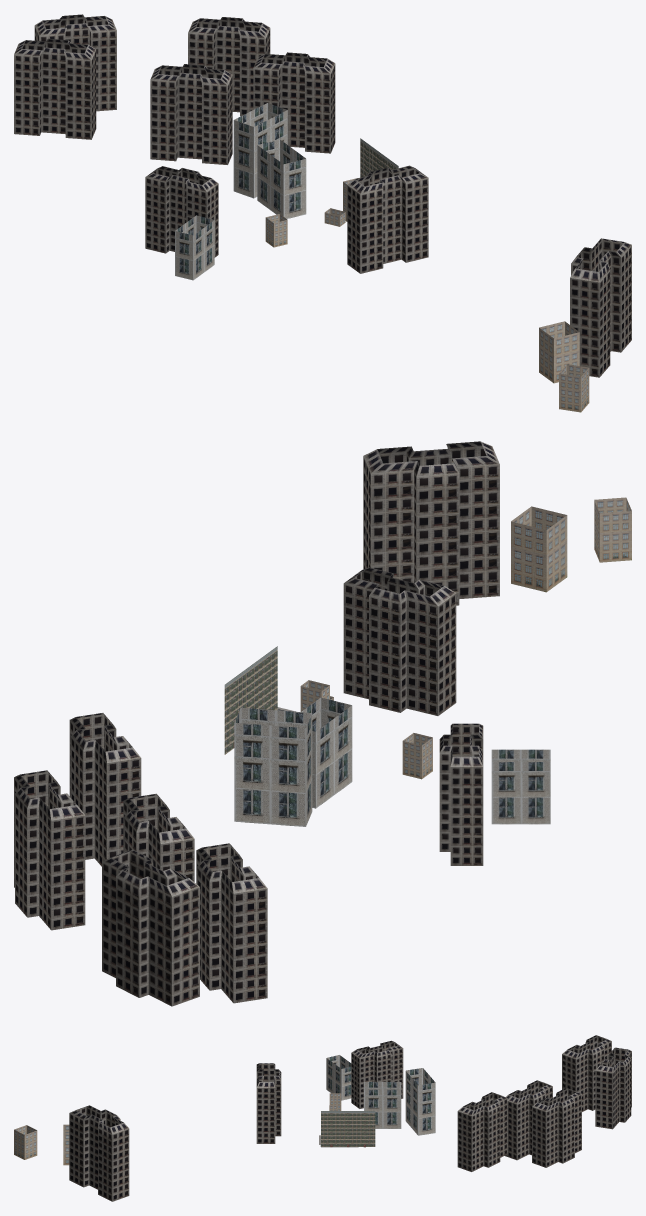
3 views of the same model, one above another, from view 1: azimuth 30°, elevation 25°; view 2: azimuth 150°, elevation 25°; view 3: azimuth 270°, elevation 25° (orthographic). The views are drawn at different scales.
Parts seen in each view (by area): view 1: Объект_Куб.11, Объект_Куб.12, Объект_Куб.7, Объект_Куб.2, Объект_Куб.10, Объект_Куб.13, Объект_Куб.8, Объект_Куб.14, Объект_Куб.6, Объект_Куб.4, Объект_Куб.9, Объект_Куб.5 (+2 smaller); view 2: Объект_Куб.2, Объект_Куб.7, Объект_Куб.14, Объект_Куб.13, Объект_Куб.12, Объект_Куб.4, Объект_Куб.10, Объект_Куб.8, Объект_Куб.9, Объект_Куб.5, Объект_Куб.11, Объект_Куб.6 (+3 smaller); view 3: Объект_Куб.2, Объект_Куб.10, Объект_Куб.13, Объект_Куб.14, Объект_Куб.8, Объект_Куб.12, Объект_Куб.11, Объект_Куб.7, Объект_Куб.4, Объект_Куб.6, Объект_Плоскость.5, Объект_Куб.9 (+3 smaller).
Part boxes in pixels (x1,y1,x2,y2): Объект_Куб.11: (150, 64, 232, 164); Объект_Куб.12: (14, 38, 96, 139); Объект_Куб.7: (347, 165, 428, 273); Объект_Куб.2: (570, 238, 631, 377); Объект_Куб.10: (253, 52, 335, 153); Объект_Куб.13: (188, 17, 270, 116); Объект_Куб.8: (145, 166, 218, 257); Объект_Куб.14: (34, 14, 116, 111); Объект_Куб.6: (257, 139, 306, 218); Объект_Куб.4: (233, 103, 287, 198); Объект_Куб.9: (175, 215, 214, 280); Объект_Куб.5: (539, 321, 579, 383); Объект_Куб.2: (363, 441, 499, 605); Объект_Куб.7: (343, 567, 456, 715); Объект_Куб.14: (102, 849, 199, 1006); Объект_Куб.13: (14, 770, 85, 930); Объект_Куб.12: (196, 843, 267, 1003); Объект_Куб.4: (234, 707, 312, 826); Объект_Куб.10: (69, 713, 141, 866); Объект_Куб.8: (439, 723, 483, 865); Объект_Куб.9: (491, 749, 550, 824); Объект_Куб.5: (511, 506, 567, 592); Объект_Куб.11: (123, 793, 194, 881); Объект_Куб.6: (301, 697, 352, 808); Объект_Куб.2: (69, 1105, 129, 1201); Объект_Куб.10: (457, 1092, 507, 1171); Объект_Куб.13: (532, 1088, 581, 1167); Объект_Куб.14: (595, 1047, 631, 1129); Объект_Куб.8: (351, 1040, 403, 1108); Объект_Куб.12: (562, 1035, 611, 1111); Объект_Куб.11: (504, 1080, 552, 1160); Объект_Куб.7: (256, 1063, 281, 1143); Объект_Куб.4: (405, 1068, 435, 1135); Объект_Куб.6: (364, 1082, 401, 1128); Объект_Плоскость.5: (321, 1113, 358, 1143); Объект_Куб.9: (326, 1055, 351, 1100).
Bounding box in the file's own units: 15606 × 5895 × 39925.
